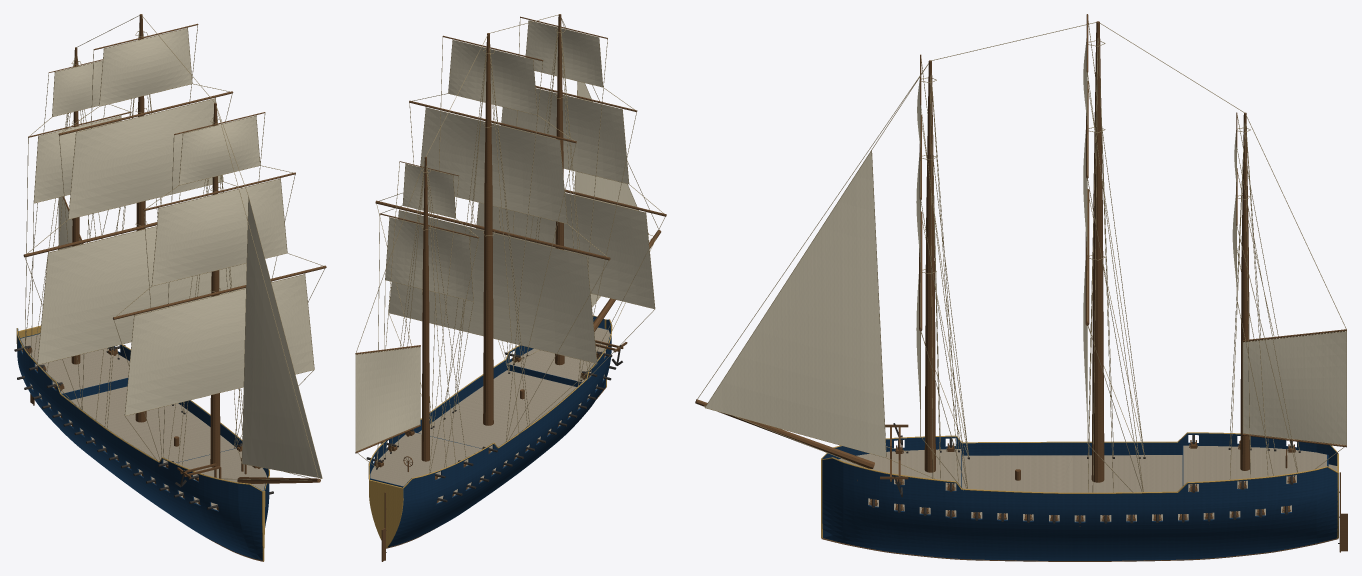
The picture shows the model from 3 angles, left to right: view 1: azimuth 30°, elevation 25°; view 2: azimuth 150°, elevation 25°; view 3: azimuth 270°, elevation 25°; orthographic projection. The views are drawn at different scales.
Parts seen in each view (by area): view 1: lod1_fore_square_00, lod1_main_square_00, lod1_hull_shell_starboard, lod1_jib_00, lod1_main_square_01, lod1_fore_square_01, lod1_main_deck, lod1_main_square_02, lod1_fore_square_02, lod1_castle_deck_0, lod1_mizzen_square_00, lod1_mizzen_square_01 (+14 smaller); view 2: lod1_main_square_00, lod1_main_square_01, lod1_hull_shell_starboard, lod1_fore_square_00, lod1_fore_square_01, lod1_main_deck, lod1_mizzen_gaff_02, lod1_mizzen_square_00, lod1_main_square_02, lod1_main, lod1_fore_square_02, lod1_castle_deck_0 (+15 smaller); view 3: lod1_hull_shell_port, lod1_jib_00, lod1_mizzen_gaff_02, lod1_main_deck, lod1_hull_shell_starboard, lod1_main, lod1_castle_deck_0, lod1_fore, lod1_castle_deck_1, lod1_mizzen, lod1_gunwale_port, lod1_bowsprit (+1 smaller).
Part boxes in pixels (x1,y1,x2,y2): lod1_fore_square_00: [125, 274, 314, 415]; lod1_main_square_00: [37, 226, 246, 364]; lod1_hull_shell_starboard: [17, 328, 262, 560]; lod1_jib_00: [242, 198, 321, 477]; lod1_main_square_01: [68, 99, 222, 218]; lod1_fore_square_01: [152, 179, 286, 285]; lod1_main_deck: [70, 386, 236, 463]; lod1_main_square_02: [99, 28, 191, 105]; lod1_fore_square_02: [179, 116, 259, 184]; lod1_castle_deck_0: [20, 334, 129, 393]; lod1_mizzen_square_00: [34, 116, 120, 202]; lod1_mizzen_square_01: [52, 61, 102, 116]; lod1_main_square_00: [389, 210, 596, 363]; lod1_main_square_01: [420, 108, 567, 223]; lod1_hull_shell_starboard: [387, 319, 611, 547]; lod1_fore_square_00: [476, 193, 654, 308]; lod1_fore_square_01: [501, 88, 628, 183]; lod1_main_deck: [418, 370, 576, 448]; lod1_mizzen_gaff_02: [356, 347, 420, 451]; lod1_mizzen_square_00: [385, 218, 473, 300]; lod1_main_square_02: [448, 40, 537, 114]; lod1_main: [483, 33, 493, 425]; lod1_fore_square_02: [526, 21, 602, 86]; lod1_castle_deck_0: [370, 432, 491, 486]; lod1_hull_shell_port: [822, 458, 1337, 560]; lod1_jib_00: [705, 151, 886, 457]; lod1_mizzen_gaff_02: [1243, 331, 1346, 444]; lod1_main_deck: [962, 455, 1337, 492]; lod1_hull_shell_starboard: [822, 433, 1337, 465]; lod1_main: [1091, 21, 1104, 482]; lod1_castle_deck_0: [1183, 445, 1326, 491]; lod1_fore: [924, 60, 935, 472]; lod1_castle_deck_1: [839, 449, 961, 490]; lod1_mizzen: [1240, 112, 1249, 470]; lod1_gunwale_port: [821, 457, 1338, 493]; lod1_bowsprit: [695, 399, 874, 468].
Size of the model in its own units: 29.5 by 55.43 by 60.69.
Materials: 7 (7 with a texture image).
